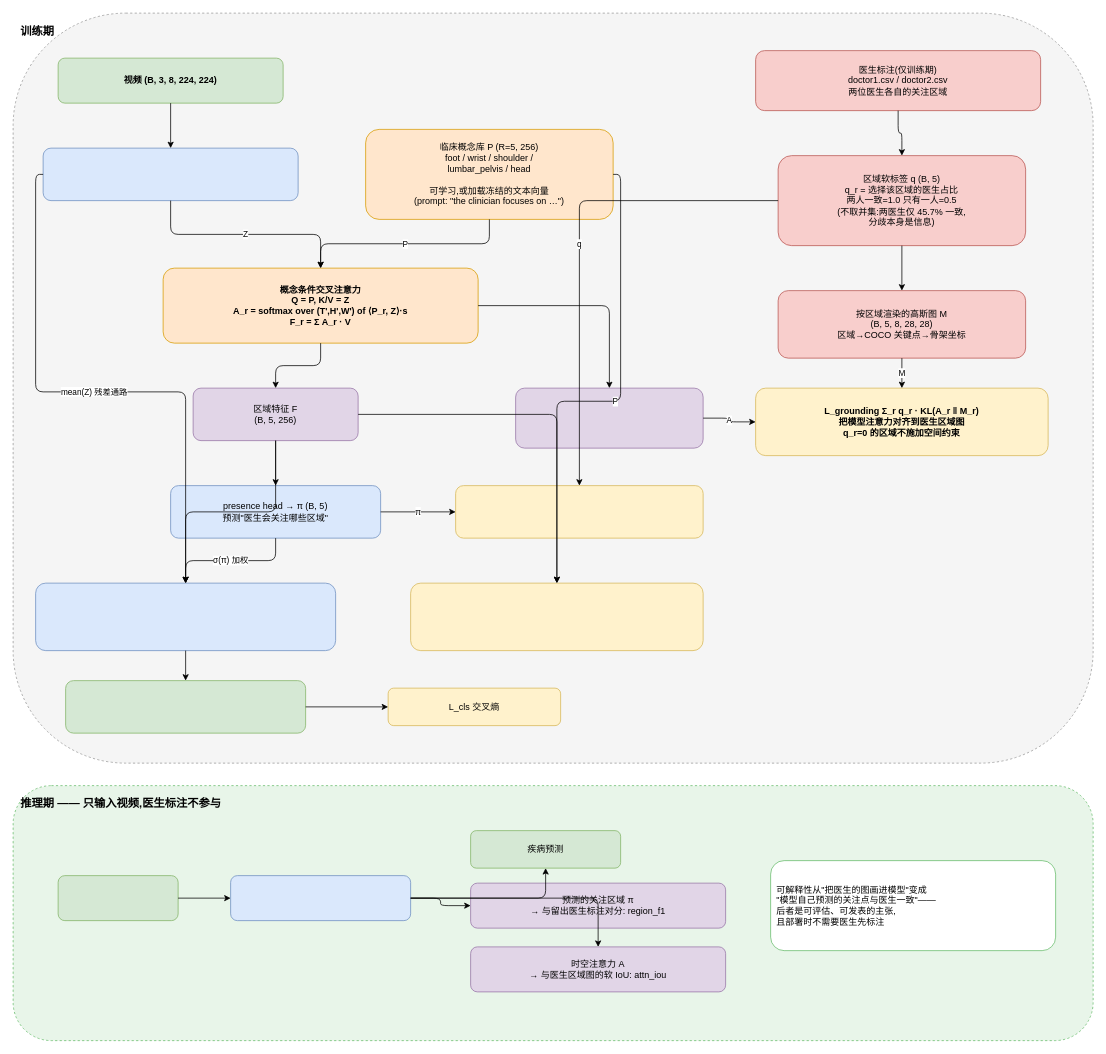
The diagram is 1106 pixels wide and 1054 high, and some of its shapes have lost their labels. The shapes that lost their labels are listed below. From the top down, each one's box as (x1, y1, x2, y2) in pixels, then its label:
(42, 147, 298, 201): ResNet3D slow_r50 (Kinetics 预训练) → tokens Z (B, 256, 8, 7, 7)
(515, 387, 703, 448): 概念注意力 A (B, 5, 8, 7, 7) 已归一化为时空分布
(455, 485, 703, 538): L_presence 软目标 BCE(π, q) 让模型学会"该看哪"
(35, 582, 336, 651): 加权聚合 v = Σ σ(π_r)·F_r / Σσ(π_r) ⊕ 全局池化 mean(Z) 先验只作引导,不做唯一通路
(410, 582, 703, 651): L_concept F_r 与概念库 P 的对比损失 负例是另外 4 个概念,不是批内样本 → 消除假负例,防止概念塌缩
(65, 680, 306, 733): classifier → logits (B, 3) ASD / DHS / LCS_HipOA
(57, 875, 178, 921): 视频
(230, 875, 411, 921): ClinicalConceptNet
